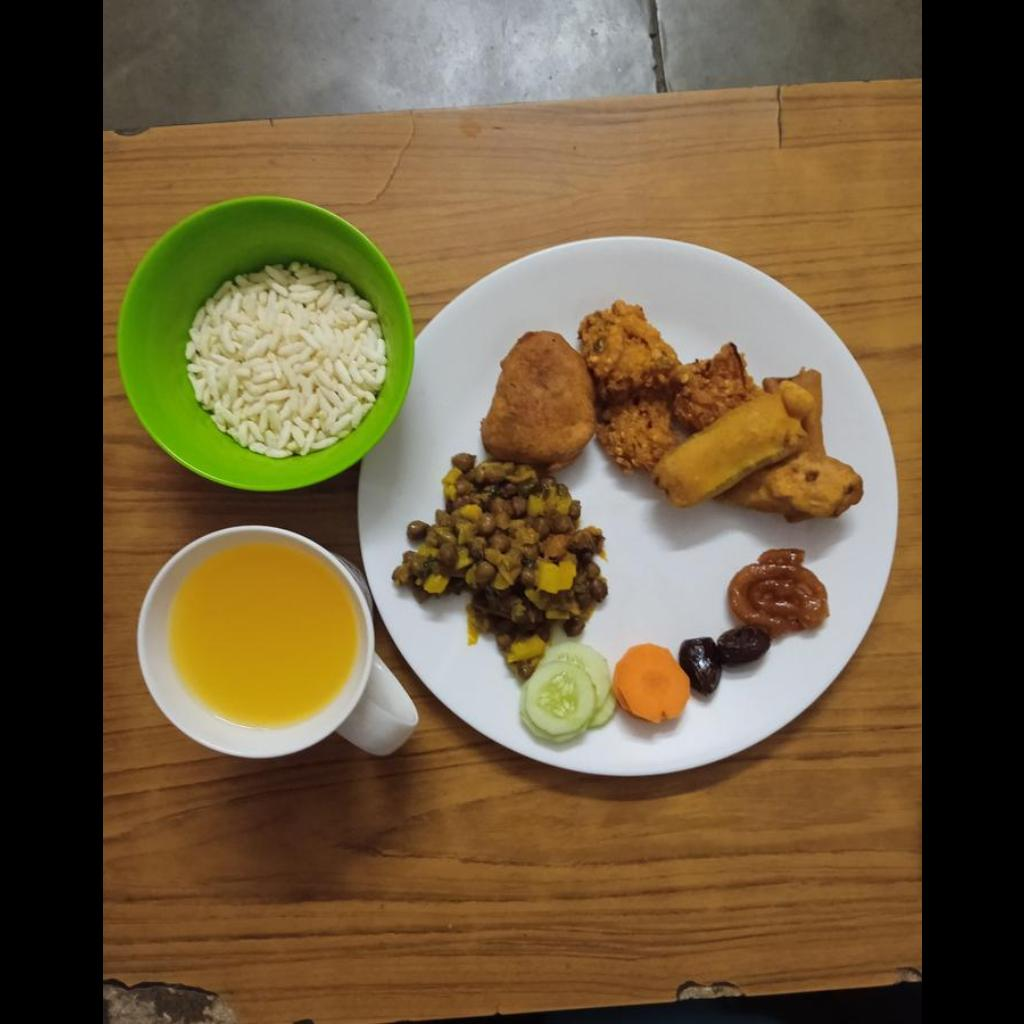beguni: (653, 370, 861, 520)
carrot: (612, 644, 690, 724)
chola: (392, 454, 606, 677)
chop-alu: (480, 331, 594, 466)
cucumber: (521, 629, 614, 745)
dates: (677, 626, 770, 695)
jilapi: (725, 548, 831, 631)
juice: (169, 542, 360, 726)
piyaju: (578, 300, 754, 477)
puffed-rice: (185, 263, 388, 459)
